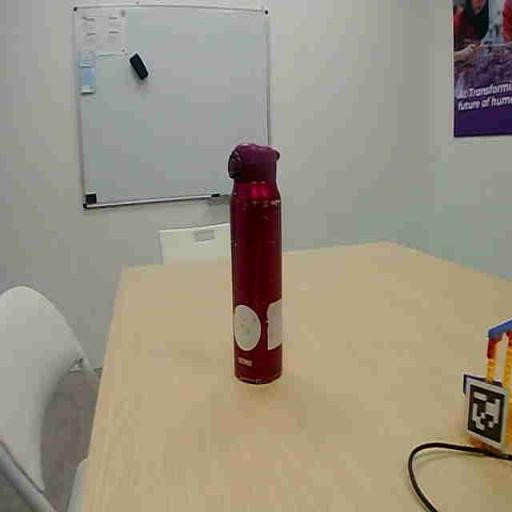bottle: (229, 144, 282, 383)
